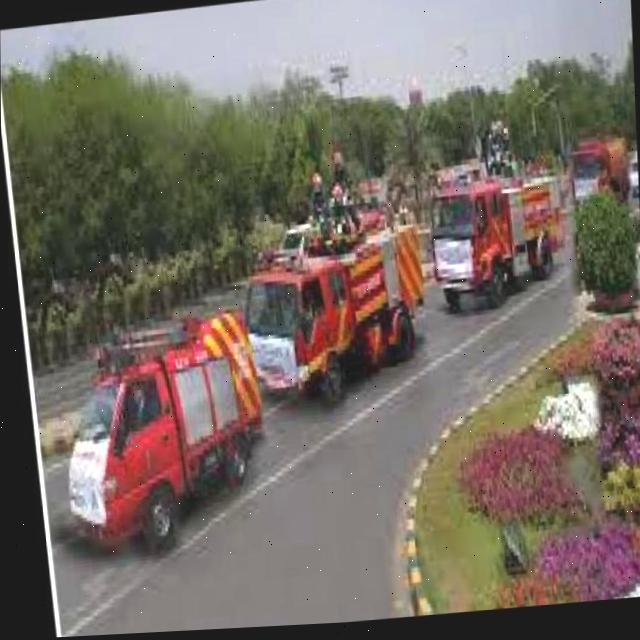emergency: (57, 307, 268, 563), (234, 204, 427, 415), (427, 169, 564, 311), (564, 143, 634, 216)
